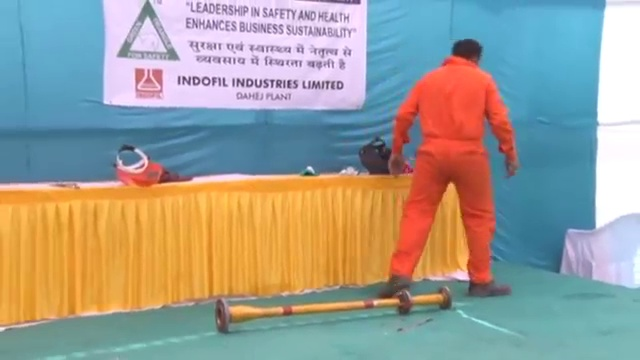helmet_off: (450, 36, 481, 66)
person: (380, 34, 524, 297)
